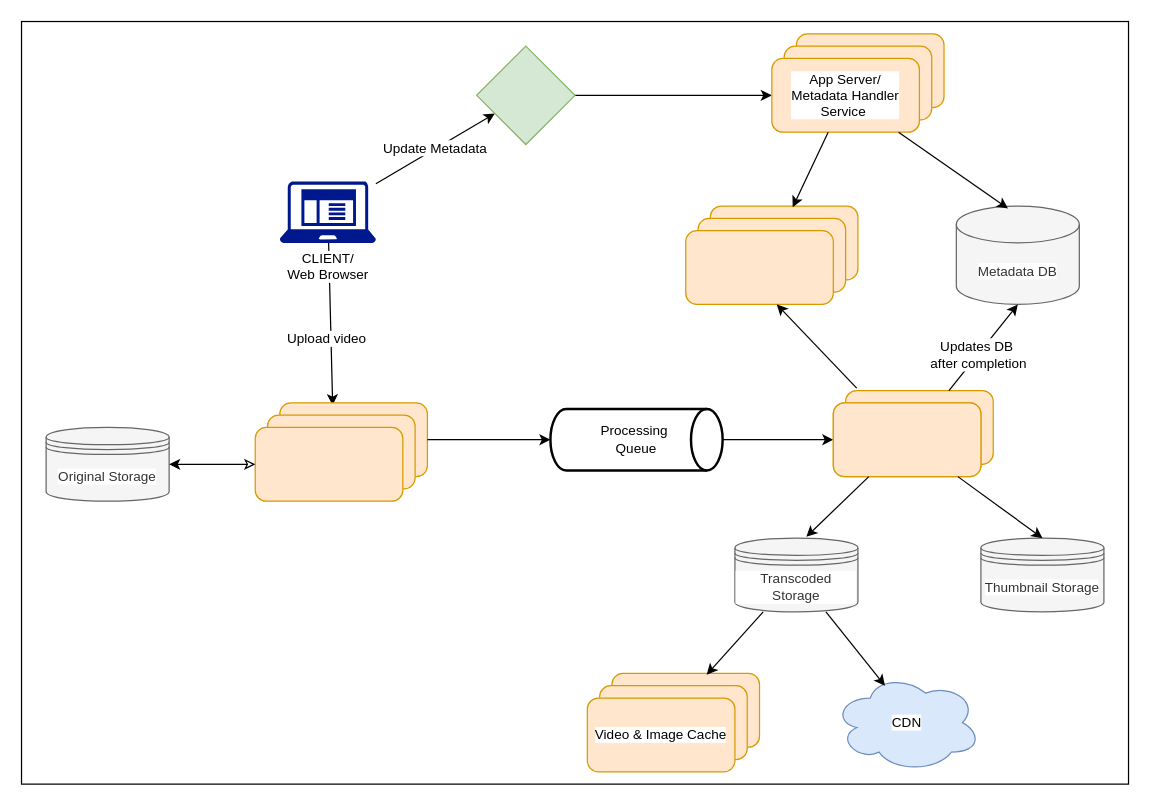
This 1150x806 diagram has some shape labels left out. Here are the shapes that lost their labels. From the top down, the centre of each, then its label:
pixel 525 95: LB
pixel 758 266: Metadata Cache
pixel 906 439: Completion Handler
pixel 328 463: Transcoding Service
